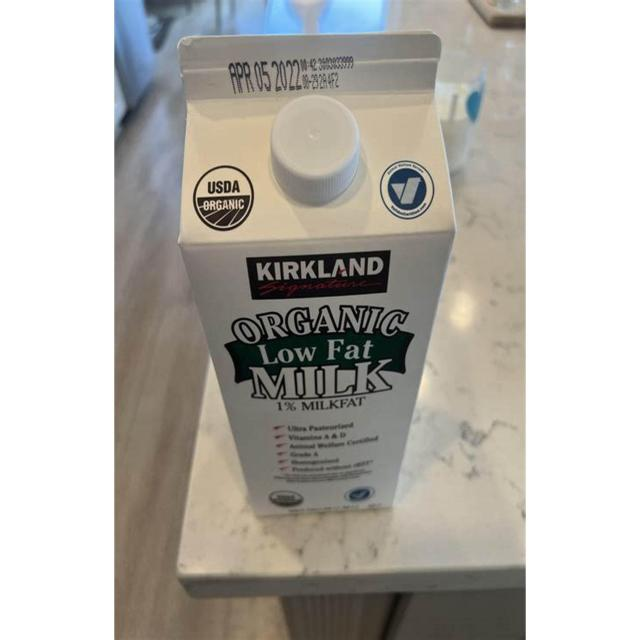drink carton: (175, 31, 458, 521)
plastic bottle cap: (269, 94, 362, 206)
